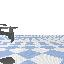drone: (0, 24, 18, 43)
